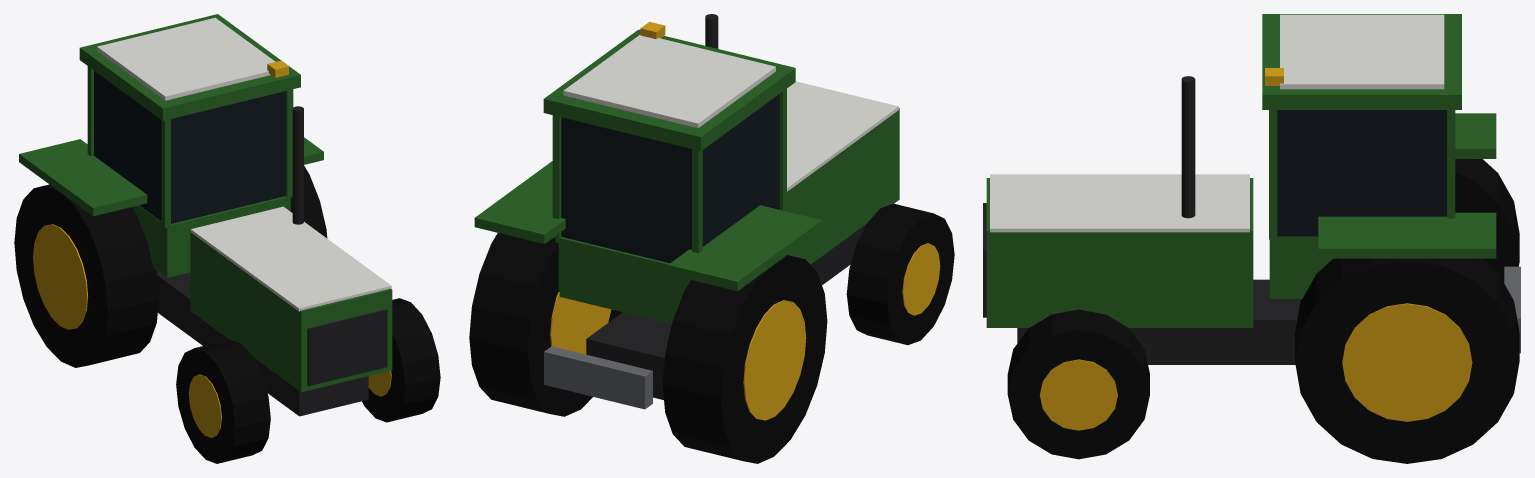
Rendered from SM_tractor.fbx.
3 views of the same model, side by side, from view 1: azimuth 30°, elevation 25°; view 2: azimuth 150°, elevation 25°; view 3: azimuth 270°, elevation 25° (orthographic). The views are drawn at different scales.
Visible parts, largest first — view 1: SM_tractor; view 2: SM_tractor; view 3: SM_tractor.
Boxes of the visible parts, <box> form: SM_tractor: <box>14,14,440,463</box>; SM_tractor: <box>469,14,954,463</box>; SM_tractor: <box>983,14,1520,463</box>.
Bounding box in the file's own units: 2.34 × 2.88 × 3.93.
